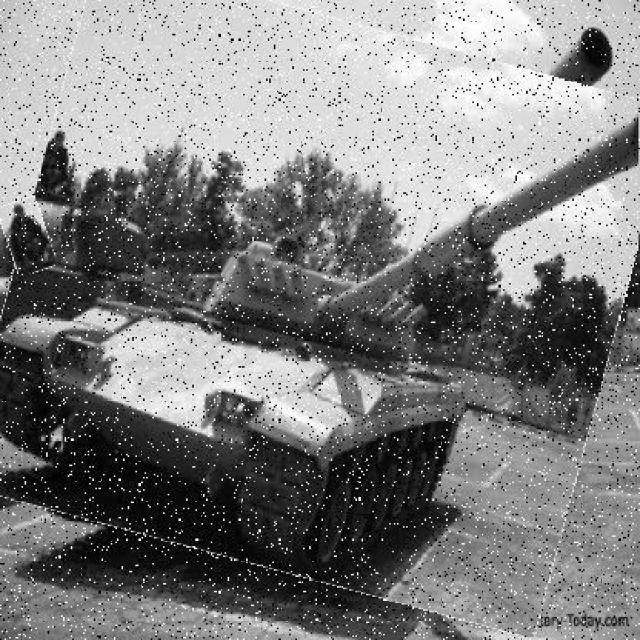Person: (3, 199, 54, 275)
Tank: (1, 1, 639, 607)
